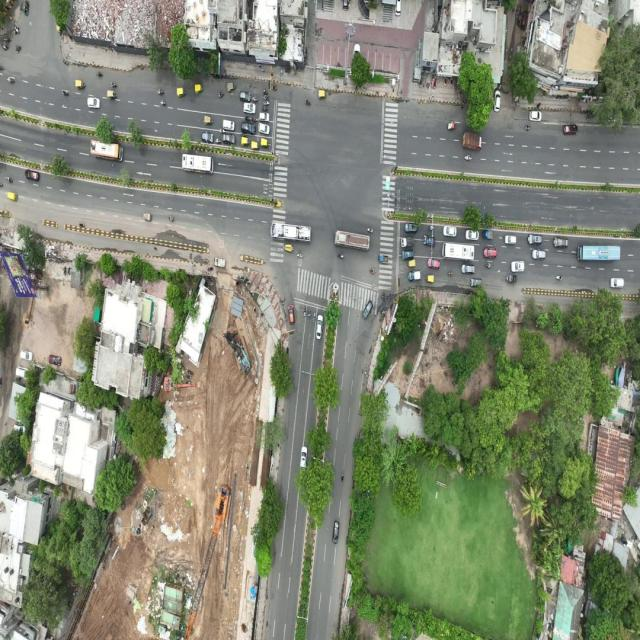3W: (277, 236, 297, 258), (16, 1, 36, 20), (5, 182, 19, 206), (226, 76, 239, 98), (104, 86, 118, 105), (422, 270, 438, 286), (204, 111, 216, 131), (238, 135, 252, 152), (318, 84, 330, 103), (248, 137, 262, 153), (74, 76, 87, 92), (402, 257, 418, 270), (193, 81, 206, 96), (260, 136, 272, 152), (176, 84, 187, 100)
Bus: (268, 221, 313, 244), (88, 134, 124, 162), (576, 241, 621, 263), (334, 228, 372, 253), (442, 241, 478, 263), (182, 152, 214, 176)
Cars: (45, 345, 65, 370), (238, 97, 260, 118), (480, 243, 504, 262), (14, 362, 34, 384), (16, 346, 39, 365), (239, 119, 261, 138), (361, 296, 376, 323), (10, 424, 30, 444), (218, 129, 238, 148), (524, 230, 546, 247), (298, 444, 310, 475), (254, 106, 273, 125), (285, 301, 298, 328), (200, 130, 218, 149), (552, 234, 570, 252), (426, 256, 444, 273), (530, 246, 548, 263), (403, 218, 419, 237), (314, 313, 324, 342), (24, 168, 42, 184), (257, 120, 273, 138), (398, 249, 417, 264), (86, 95, 102, 112), (527, 109, 544, 125), (562, 121, 578, 138), (463, 228, 480, 244), (492, 87, 502, 114), (407, 267, 422, 285), (510, 256, 525, 274), (519, 7, 529, 33), (460, 261, 476, 277), (468, 276, 484, 292), (331, 519, 340, 547), (422, 232, 437, 248), (609, 275, 625, 290), (442, 224, 458, 239), (239, 86, 252, 104), (503, 233, 517, 249), (352, 42, 362, 61), (393, 0, 402, 18), (341, 0, 351, 14)
LCV: (220, 113, 238, 136), (374, 249, 394, 269), (480, 226, 500, 245), (444, 114, 459, 134), (142, 208, 154, 226), (503, 273, 518, 287), (584, 108, 597, 124)
M2W: (520, 120, 540, 139), (166, 210, 180, 228), (93, 66, 106, 84), (461, 152, 475, 168), (304, 91, 314, 113), (447, 72, 458, 92), (3, 171, 17, 186), (294, 245, 305, 264), (309, 306, 319, 326), (270, 77, 280, 96), (299, 300, 309, 319), (482, 261, 499, 272), (108, 76, 121, 90), (305, 303, 314, 323), (0, 37, 9, 56), (12, 21, 22, 38), (334, 249, 346, 263), (5, 73, 16, 88), (367, 265, 378, 280), (444, 270, 457, 282), (61, 88, 72, 102), (432, 70, 439, 92), (158, 97, 168, 112), (216, 88, 226, 103), (2, 28, 11, 44), (212, 135, 224, 147), (441, 73, 449, 90), (379, 289, 388, 304), (156, 84, 166, 97), (260, 101, 270, 114), (250, 93, 260, 106), (217, 123, 227, 136), (366, 222, 376, 235), (554, 271, 564, 284), (78, 220, 88, 232), (260, 84, 270, 96), (250, 112, 260, 124), (186, 366, 196, 378), (0, 369, 5, 392), (14, 44, 23, 56), (426, 221, 434, 234), (262, 92, 272, 102), (339, 470, 345, 486), (184, 377, 193, 387), (261, 100, 272, 107), (244, 115, 252, 124), (185, 372, 193, 381), (0, 178, 4, 192)
Truck: (460, 130, 483, 154), (211, 251, 228, 273), (399, 234, 415, 250)
